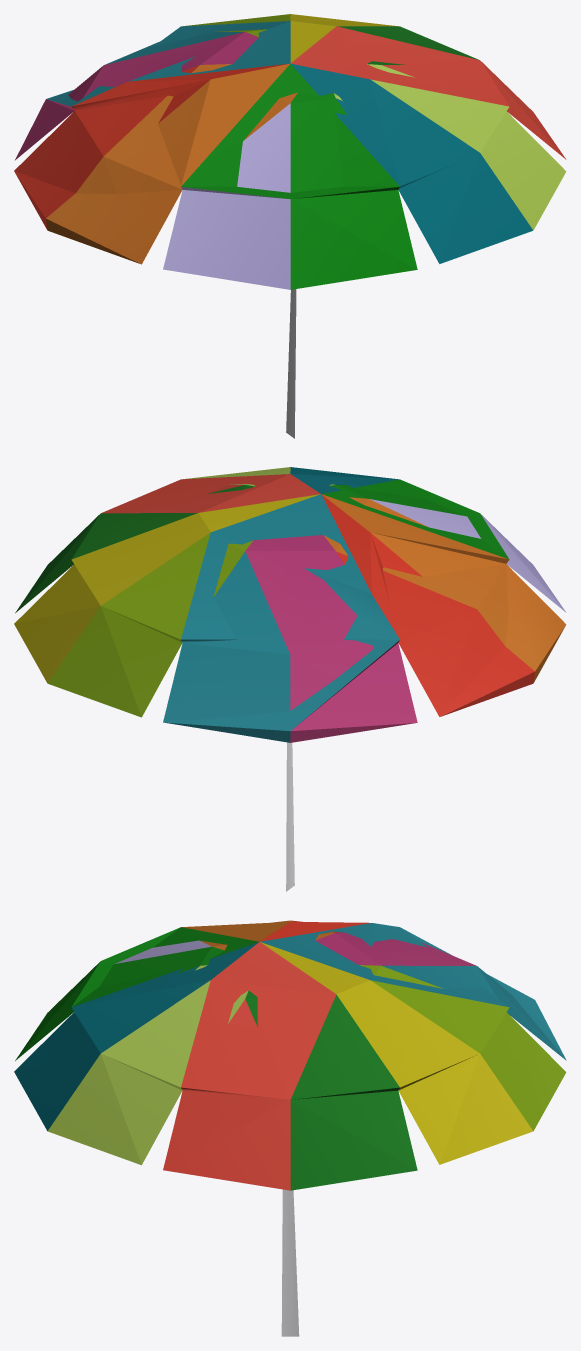
The model's file is ombrellone_LOD2.fbx.
3 renders of one model, top to bottom at view 1: azimuth 30°, elevation 25°; view 2: azimuth 150°, elevation 25°; view 3: azimuth 270°, elevation 25°, orthographic.
Parts seen in each view (by area): view 1: Sphere_002_0; view 2: Sphere_002_0; view 3: Sphere_002_0.
Boxes of the visible parts, bbox=[...] form: Sphere_002_0: bbox=[14, 14, 566, 438]; Sphere_002_0: bbox=[14, 467, 566, 891]; Sphere_002_0: bbox=[14, 920, 566, 1336].
Size of the model in its own units: 447 by 339 by 439.
Materials: 1 (1 with a texture image).
